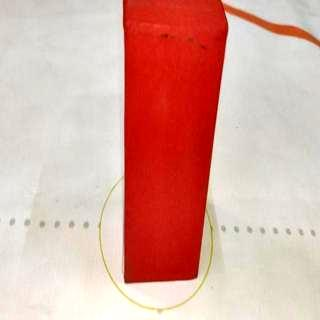redbox: (122, 1, 230, 283)
